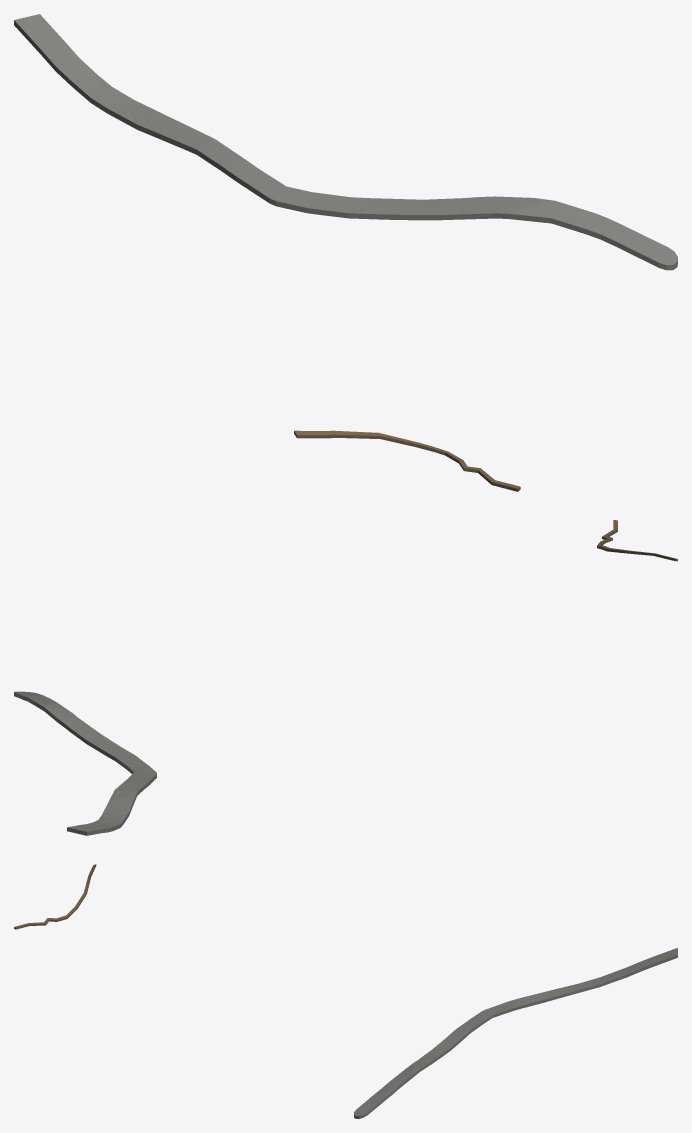
The picture shows the model from 3 angles, top to bottom: view 1: azimuth 30°, elevation 25°; view 2: azimuth 150°, elevation 25°; view 3: azimuth 270°, elevation 25°; orthographic projection. The views are drawn at different scales.
Bounding box in the file's own units: 150 × 36.39 × 249.
